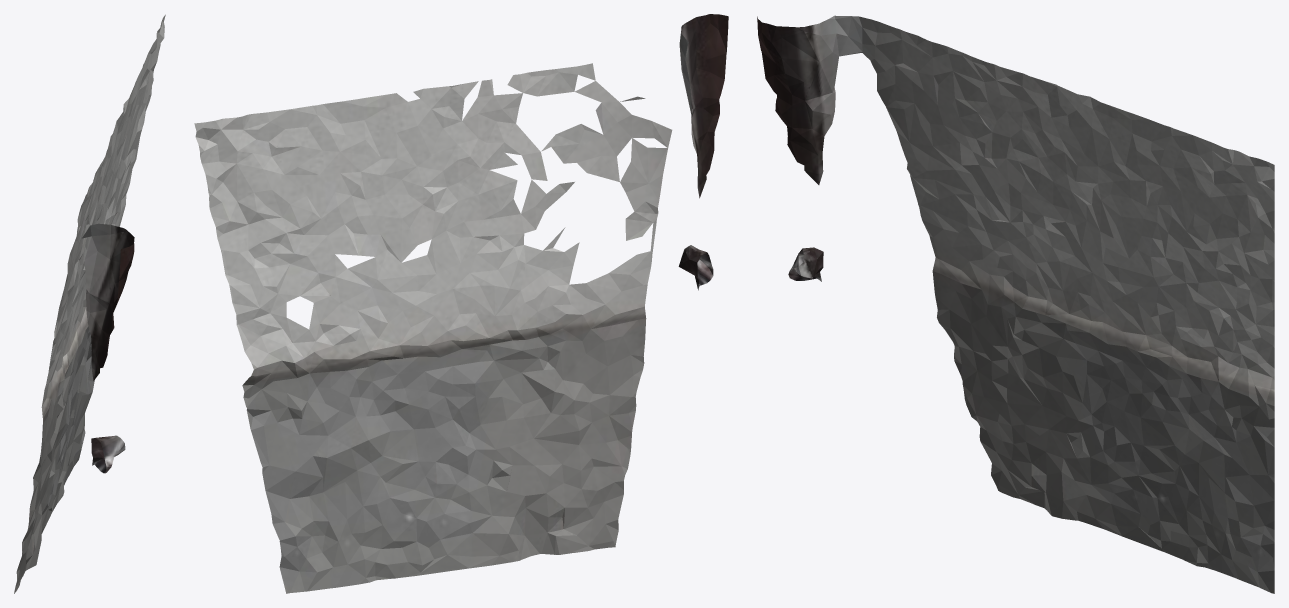
The picture shows the model from 3 angles, left to right: view 1: azimuth 30°, elevation 25°; view 2: azimuth 150°, elevation 25°; view 3: azimuth 270°, elevation 25°; orthographic projection. The views are drawn at different scales.
Bounding box in the file's own units: 0.569 × 0.8374 × 0.8241.
2 materials, 2 textured.
